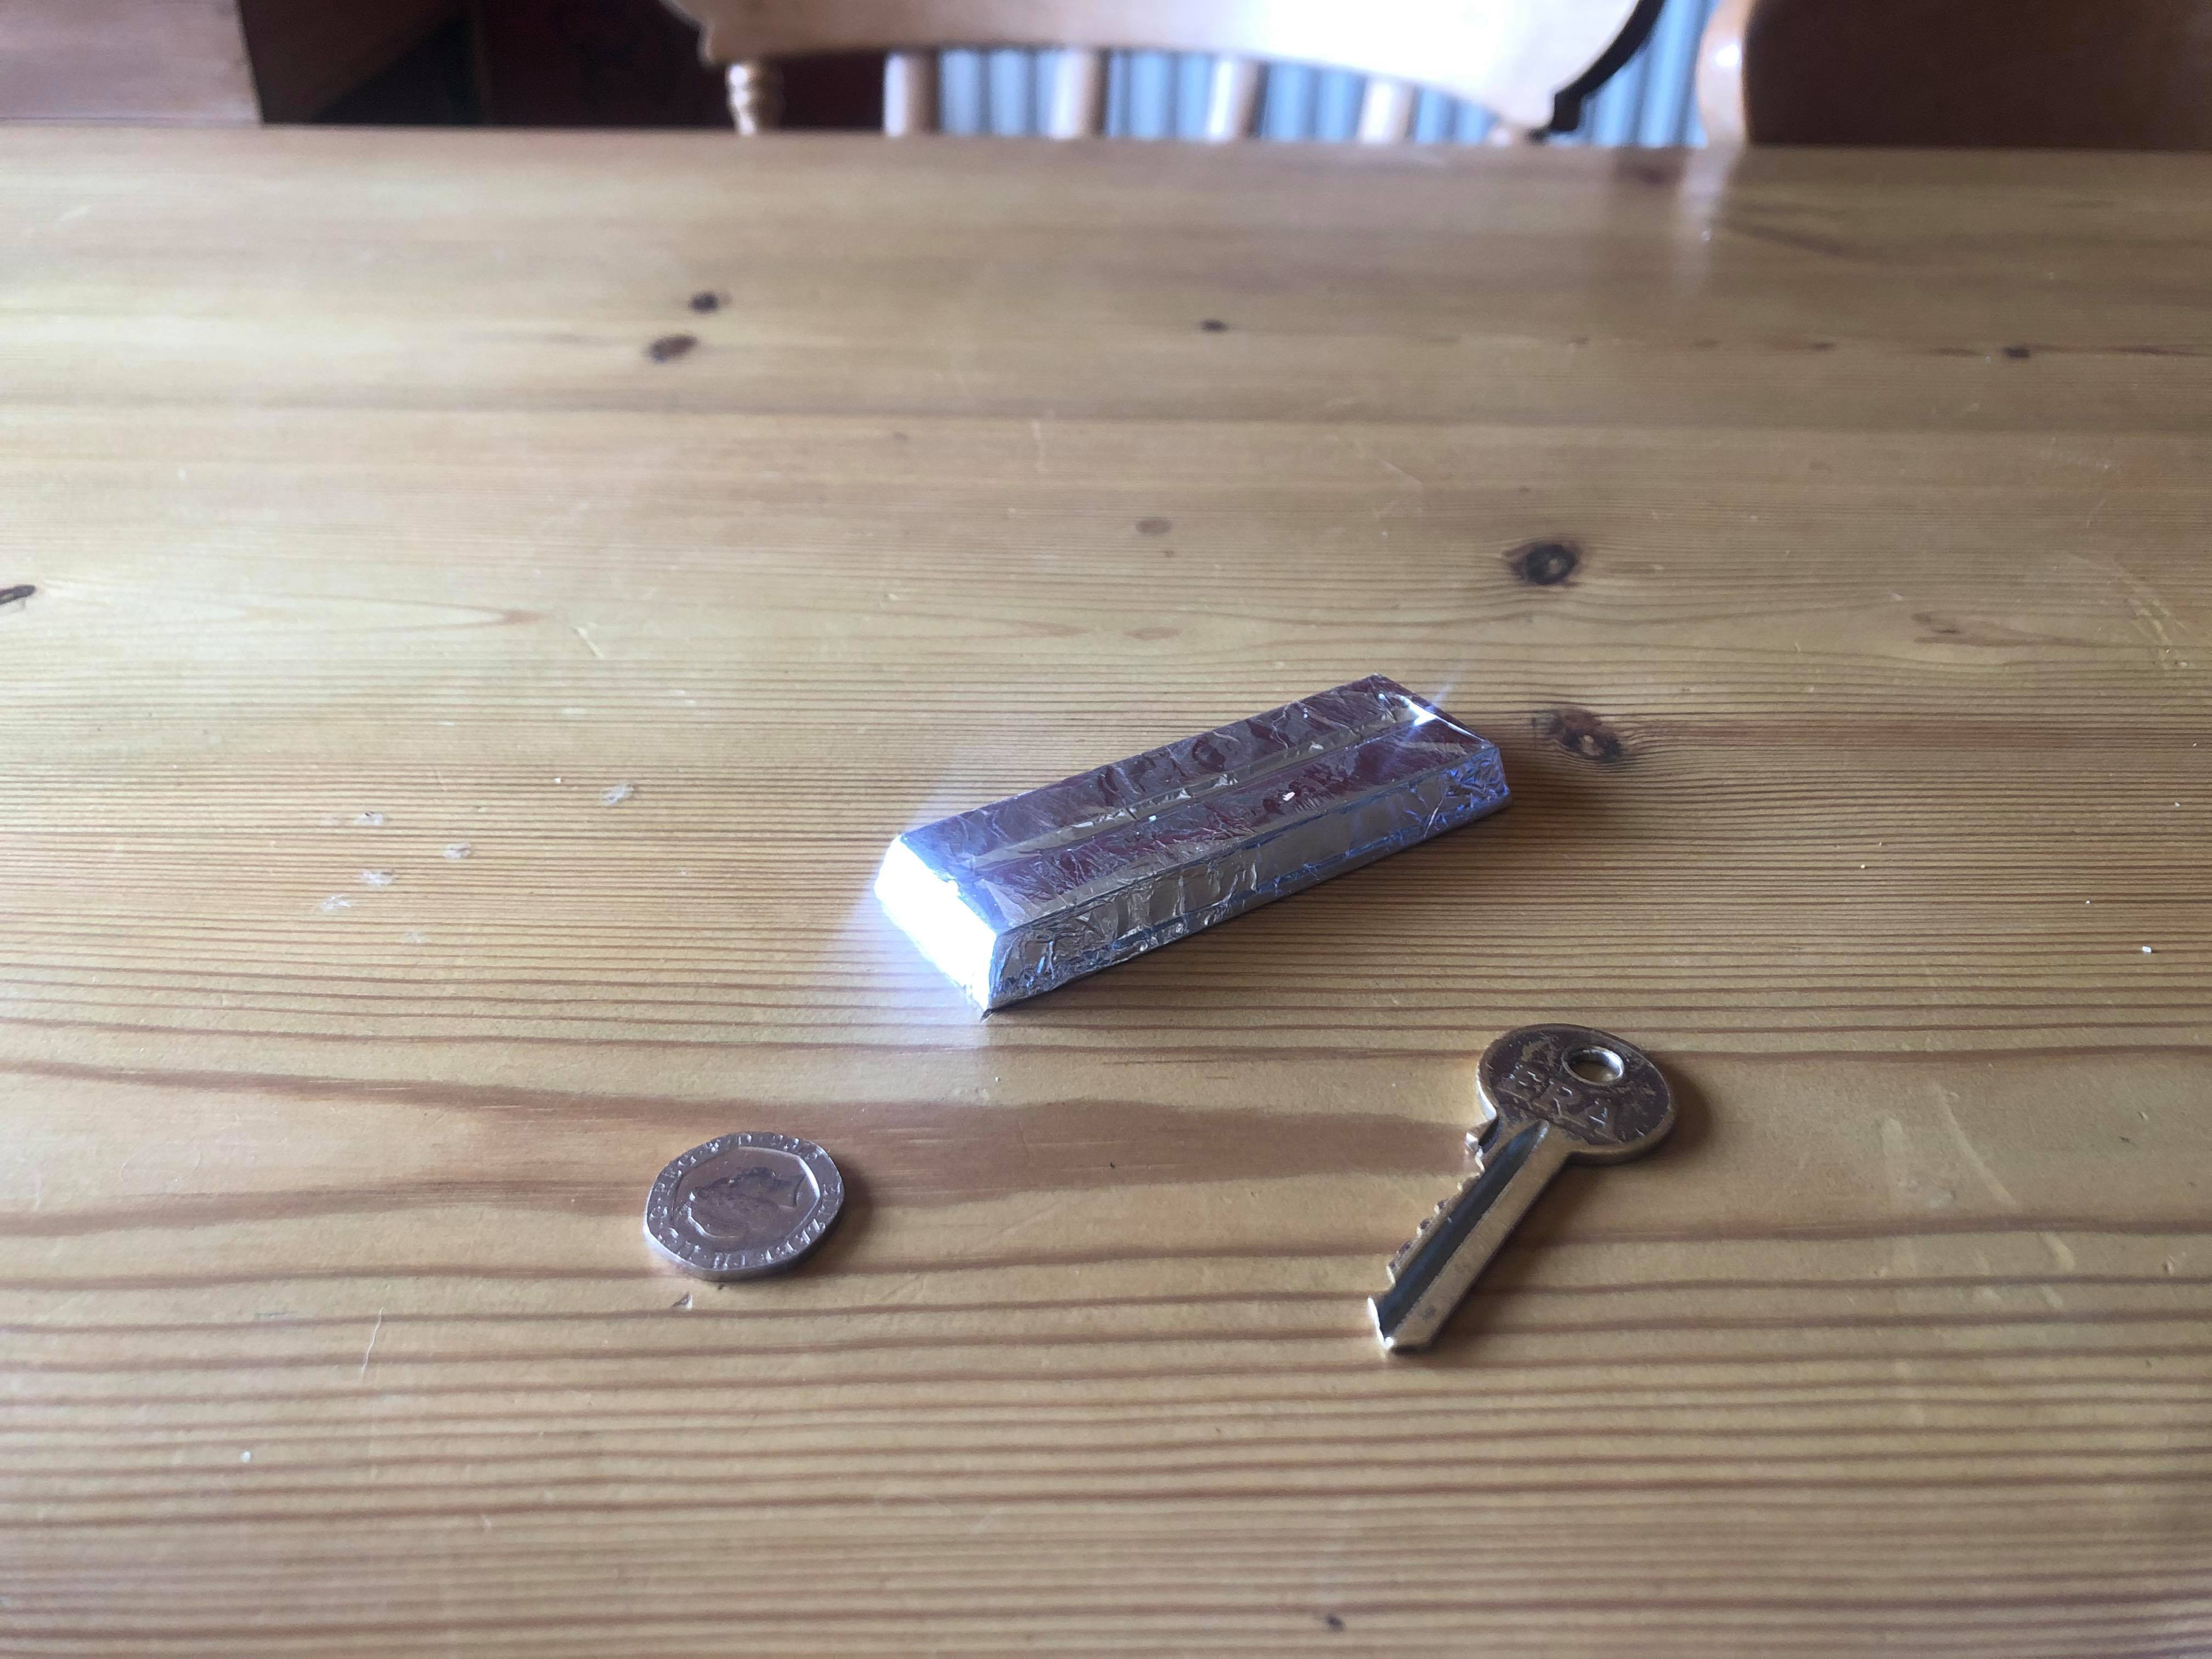Coin: (643, 1126, 850, 1277)
Foil: (874, 669, 1514, 1018)
Key: (1353, 1018, 1684, 1384)
